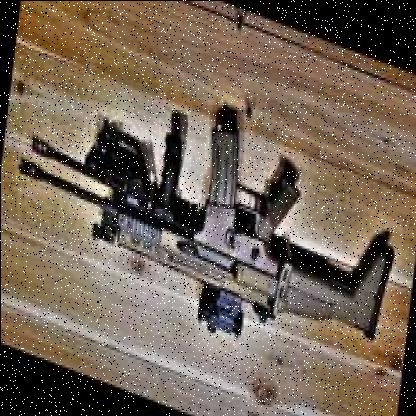rifle: (9, 49, 400, 379)
